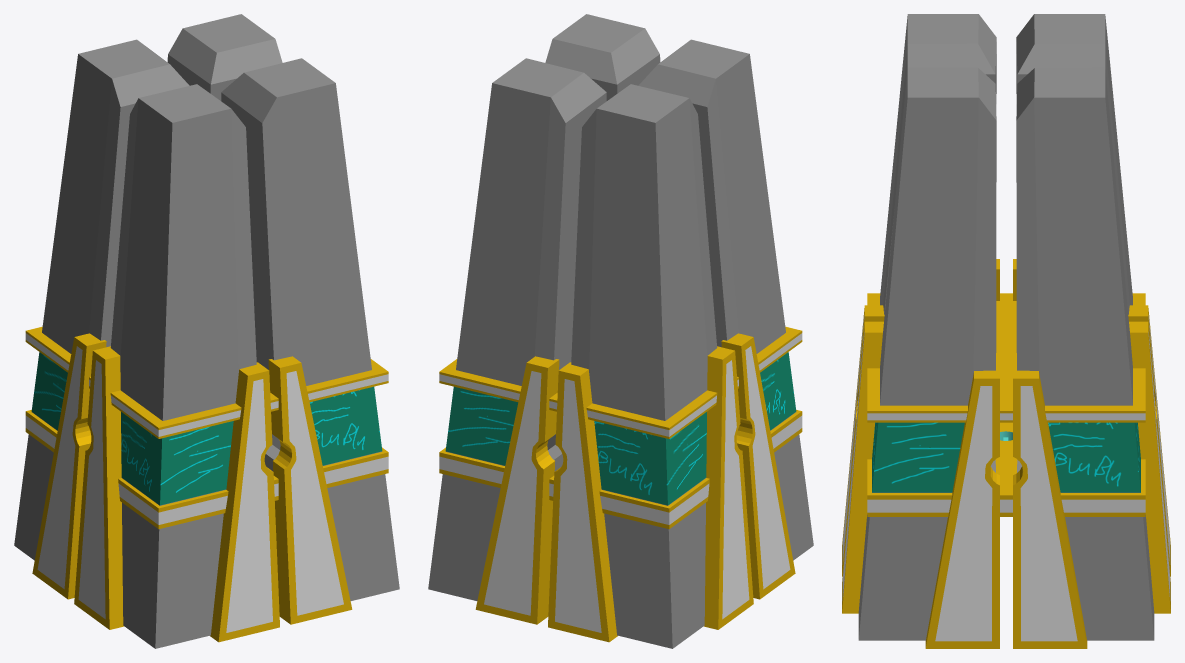
Rendered from ArxCutOut2.fbx.
The picture shows the model from 3 angles, left to right: view 1: azimuth 30°, elevation 25°; view 2: azimuth 150°, elevation 25°; view 3: azimuth 270°, elevation 25°; orthographic projection. The views are drawn at different scales.
Parts seen in each view (by area): view 1: TopBlock2, TopSideTriangles, TopBlock3, TopBlock4, TopBlock, LowerHorizontalBlockCutOut, TopHorizontalBlock; view 2: TopBlock4, TopSideTriangles, TopBlock, TopBlock2, TopBlock3, LowerHorizontalBlockCutOut, TopHorizontalBlock; view 3: TopBlock3, TopBlock, TopSideTriangles, TopHorizontalBlock, TopBlock4, TopBlock2, LowerHorizontalBlockCutOut.
Boxes of the visible parts, x1=… form: TopBlock2: x1=110, y1=84, x2=256, y2=648; TopSideTriangles: x1=32, y1=333, x2=352, y2=642; TopBlock3: x1=221, y1=58, x2=399, y2=600; TopBlock4: x1=14, y1=39, x2=189, y2=560; TopBlock: x1=167, y1=14, x2=282, y2=100; LowerHorizontalBlockCutOut: x1=25, y1=410, x2=388, y2=529; TopHorizontalBlock: x1=25, y1=326, x2=388, y2=438; TopBlock4: x1=571, y1=84, x2=717, y2=648; TopSideTriangles: x1=475, y1=333, x2=795, y2=642; TopBlock: x1=428, y1=58, x2=606, y2=600; TopBlock2: x1=638, y1=39, x2=813, y2=560; TopBlock3: x1=545, y1=14, x2=660, y2=100; LowerHorizontalBlockCutOut: x1=439, y1=410, x2=802, y2=529; TopHorizontalBlock: x1=439, y1=326, x2=802, y2=438; TopBlock3: x1=858, y1=67, x2=996, y2=640; TopBlock: x1=1016, y1=67, x2=1154, y2=640; TopSideTriangles: x1=842, y1=259, x2=1170, y2=648; TopHorizontalBlock: x1=867, y1=293, x2=1145, y2=422; TopBlock4: x1=1016, y1=14, x2=1132, y2=314; TopBlock2: x1=880, y1=14, x2=996, y2=314; LowerHorizontalBlockCutOut: x1=867, y1=422, x2=1145, y2=516.
Size of the model in its own units: 50804 by 89302 by 50804.
